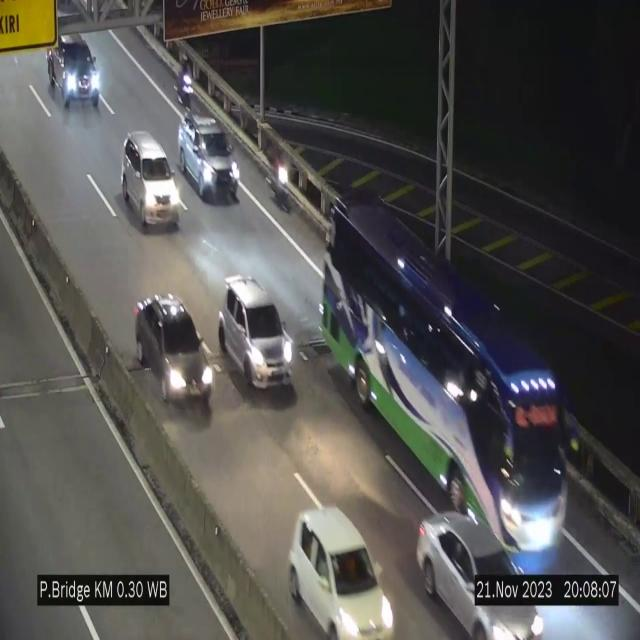Bus: (320, 195, 567, 565)
Car: (412, 479, 550, 640), (288, 499, 395, 640), (133, 296, 214, 414), (218, 278, 294, 390), (48, 23, 112, 116), (122, 132, 180, 230), (178, 115, 240, 201)
Motorcycle: (272, 142, 292, 217), (176, 55, 194, 110)
